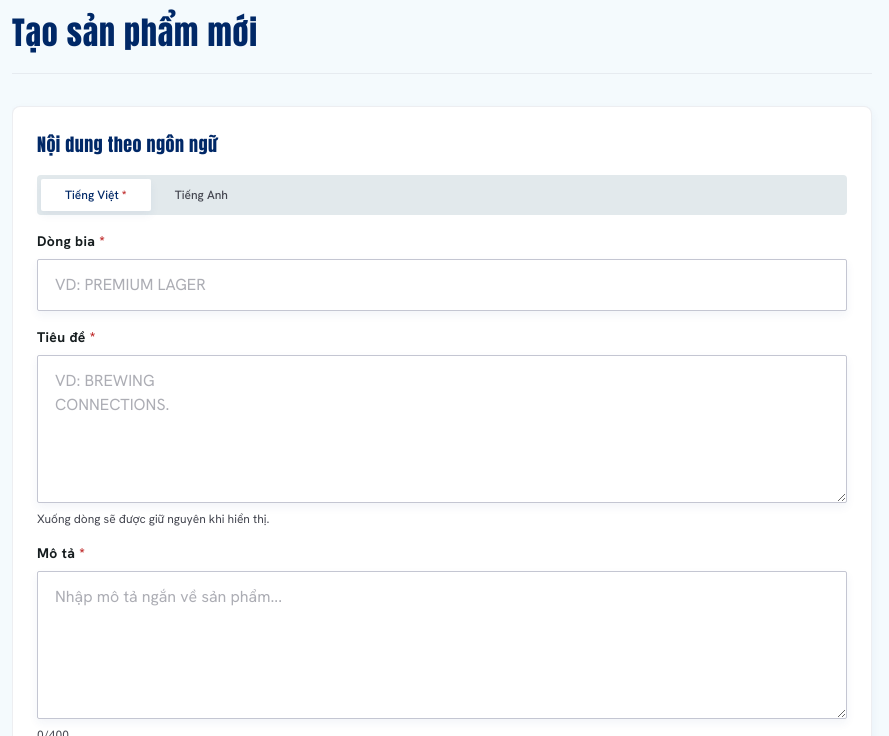
it: BeerForm product variants › blocks submit when a variant is missing its Vietnamese label
This screenshot has width=889, height=736.
Type "Premium Lager" into the field labelled "Dòng bia *".
click(442, 285); type("Premium Lager")  # box [37,259,847,311]
Type "Headline" into the text box labelled "Tiêu đề *".
click(442, 429); type("Headline")  # box [37,355,847,503]
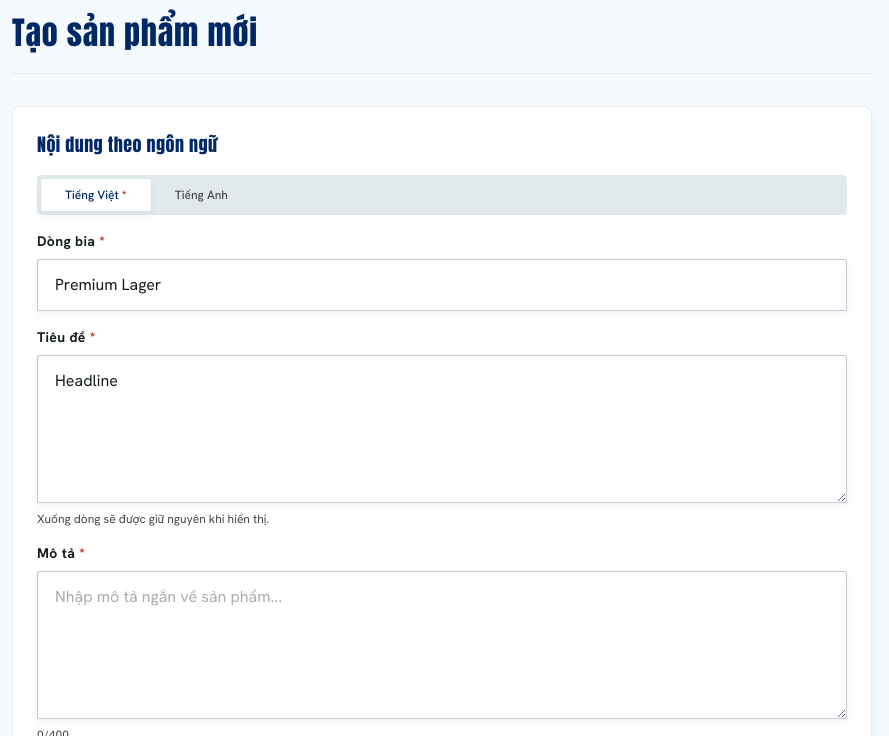
Type "Description" into the text box labelled "Mô tả *".
click(442, 645); type("Description")  # box [37,571,847,719]
(page scrolled)
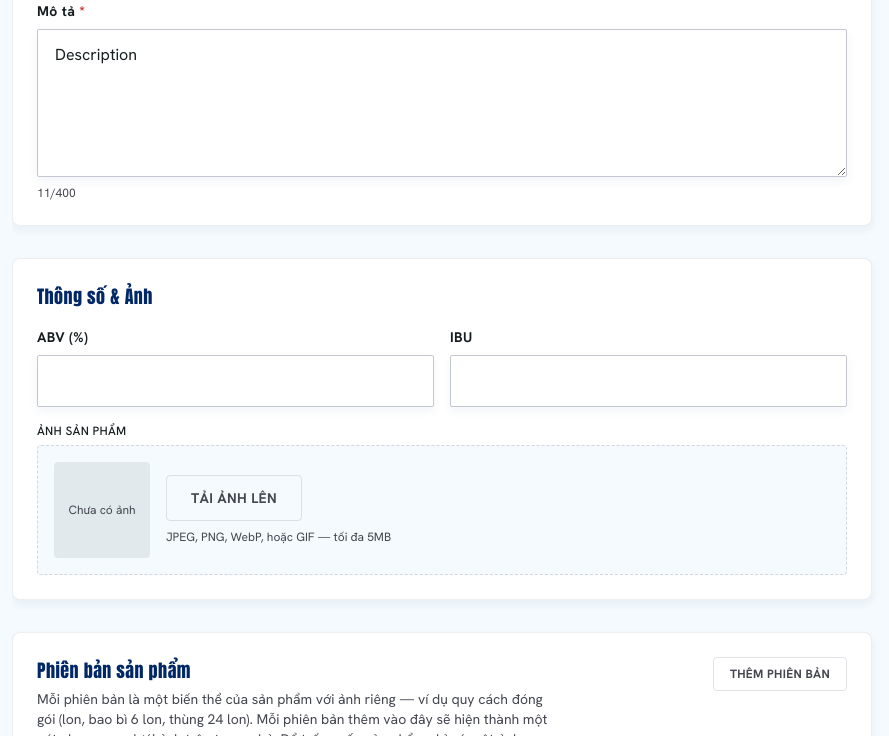
Type "4.5" into the number field labelled "ABV (%)".
click(236, 381); type("4.5")  # box [37,355,434,407]
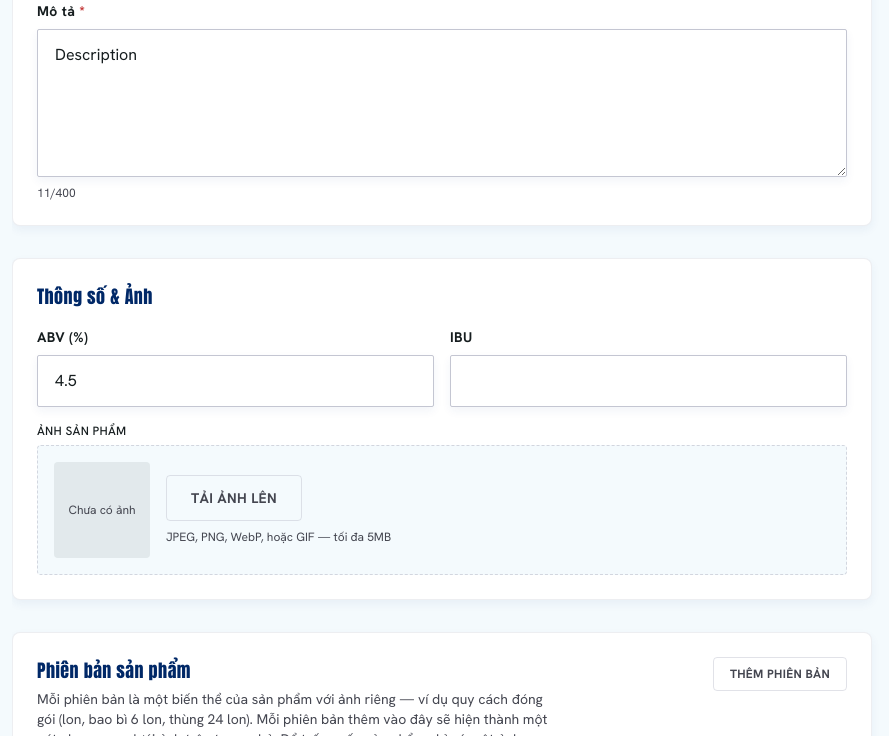
Type "20" into the number field labelled "IBU".
click(648, 381); type("20")  # box [450,355,847,407]
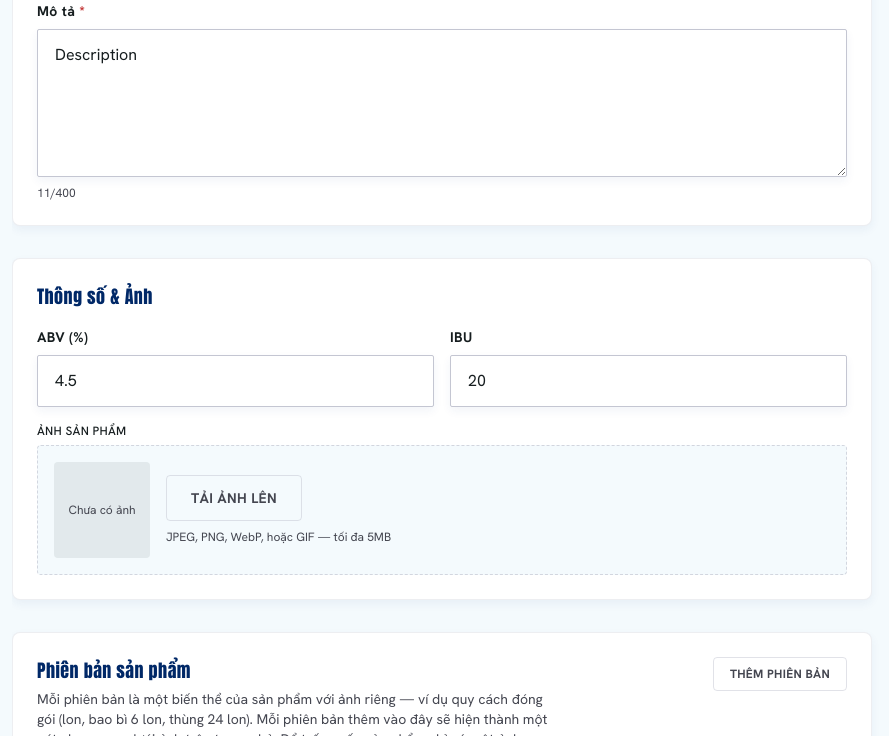
Click the button "Thêm phiên bản".
click(780, 674)  # box [713,657,847,691]
(page scrolled)
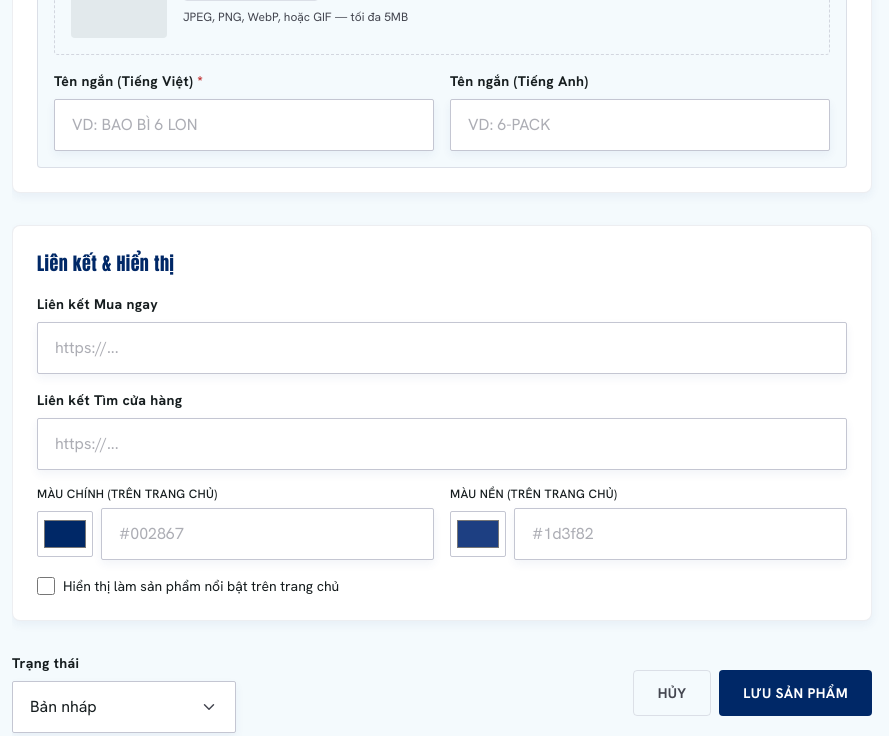
Click the button "Lưu sản phẩm".
click(796, 693)  # box [719,670,872,716]
(page scrolled)
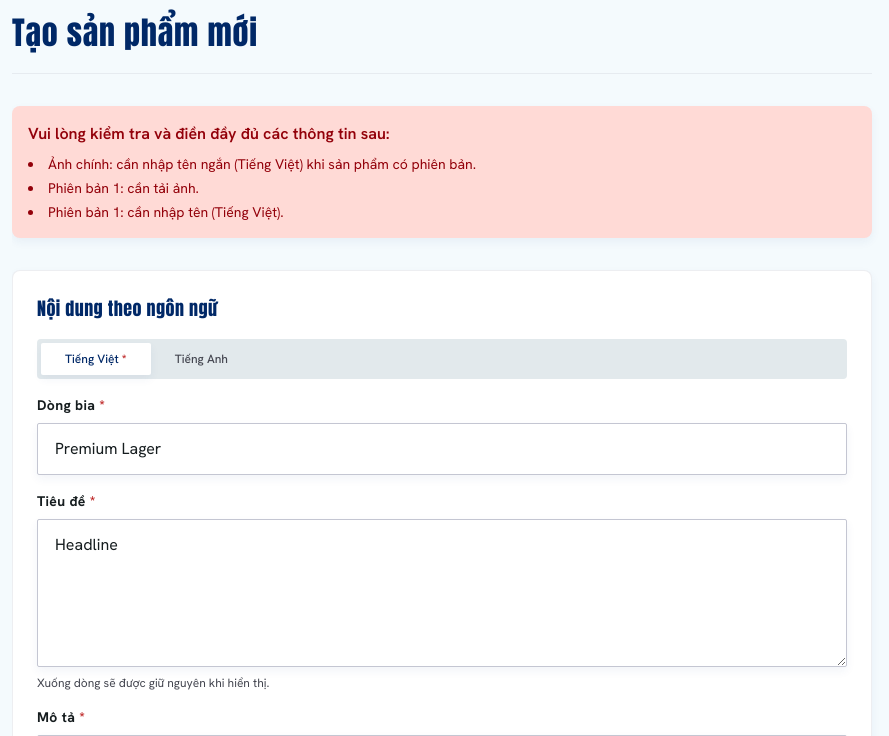
expect the list item "Phiên bản 1: cần nhập tên (Tiếng Việt)." is shown: met, box [48,203,284,221]
